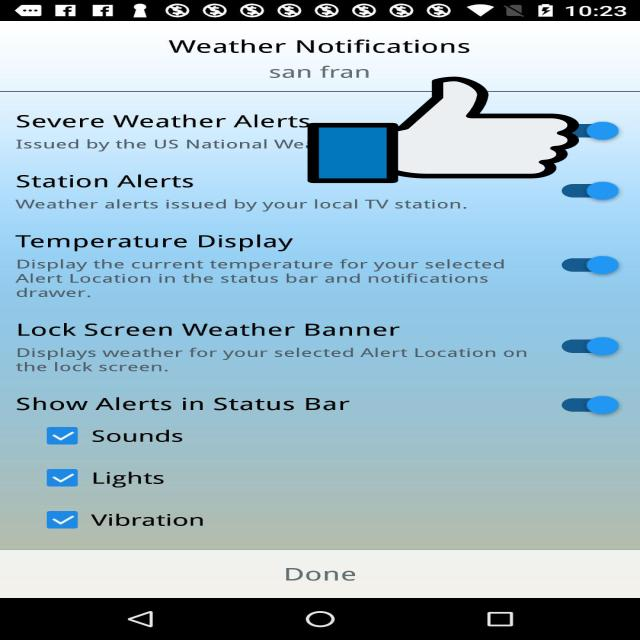privacy zuckering: (308, 74, 579, 186)
